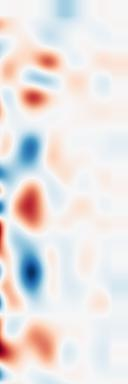filament: (11, 173, 54, 237)
